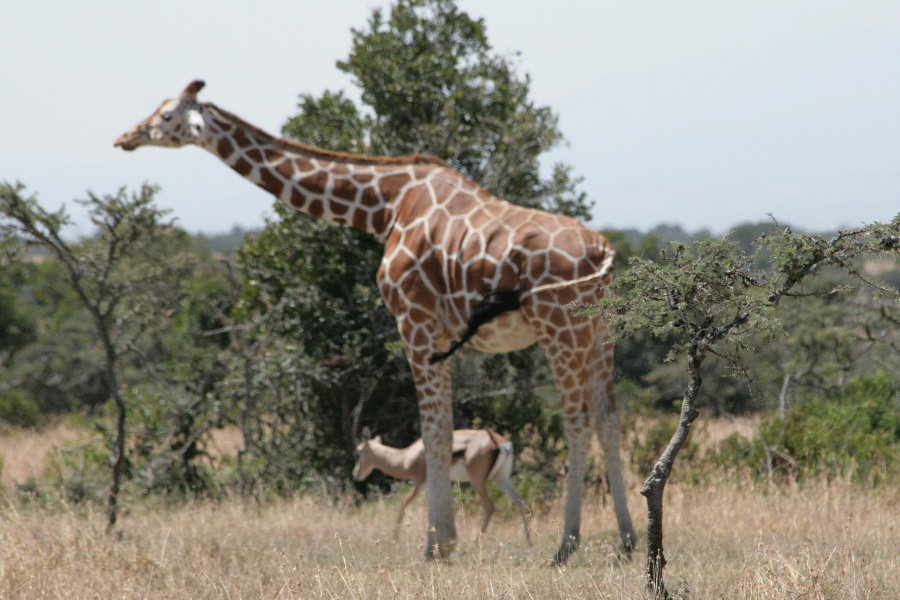giraffe: (104, 70, 655, 572)
